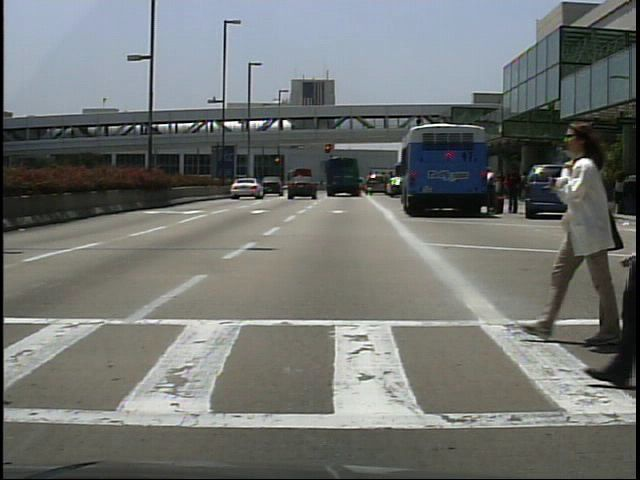person: (537, 116, 619, 350), (582, 167, 602, 218), (484, 163, 502, 215), (503, 165, 522, 214)
